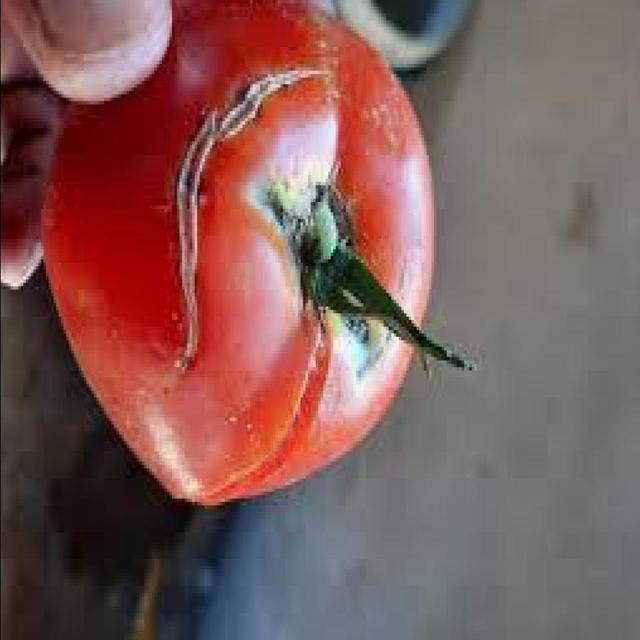Cracking Fruit: (97, 19, 231, 270)
